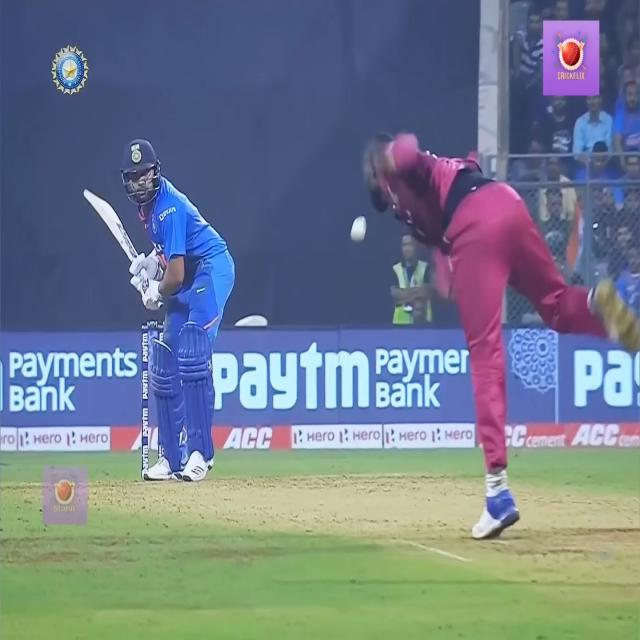fully_visible: (213, 343, 372, 421)
